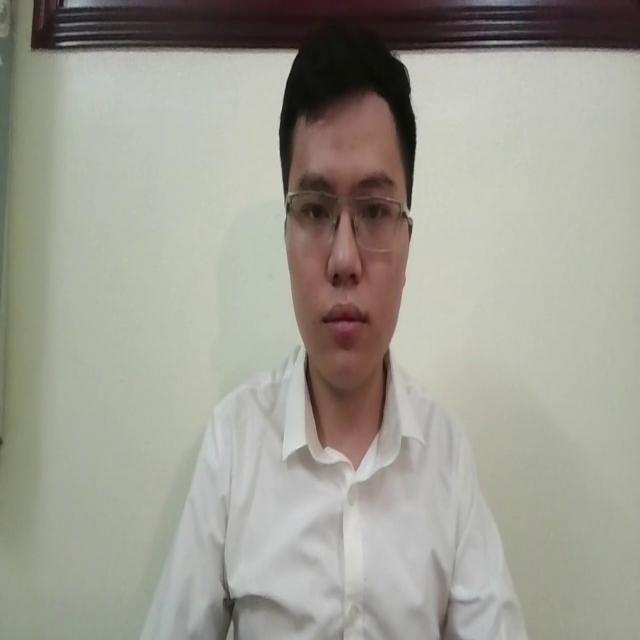student: (151, 28, 529, 640)
